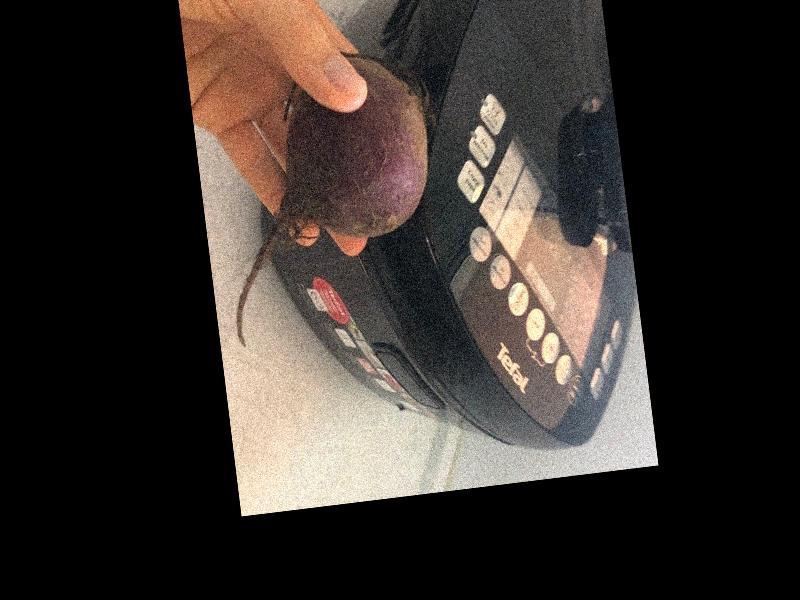Beet: (206, 44, 458, 345)
